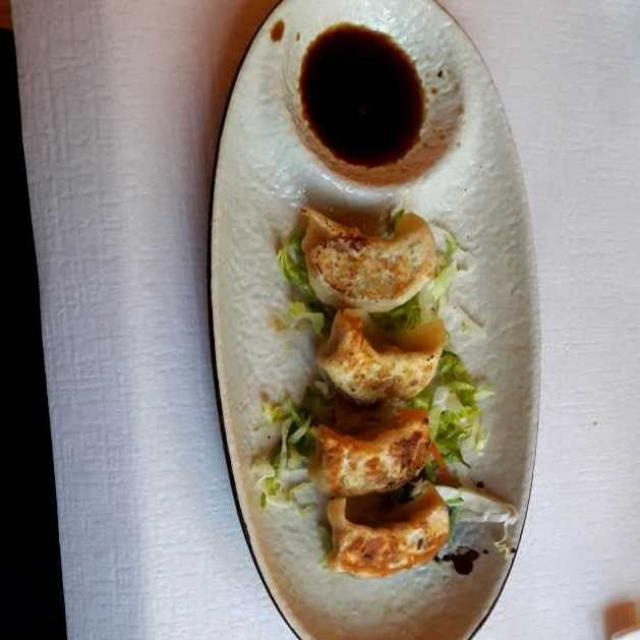dumplings: (290, 203, 490, 579)
sauce: (297, 16, 431, 180)
